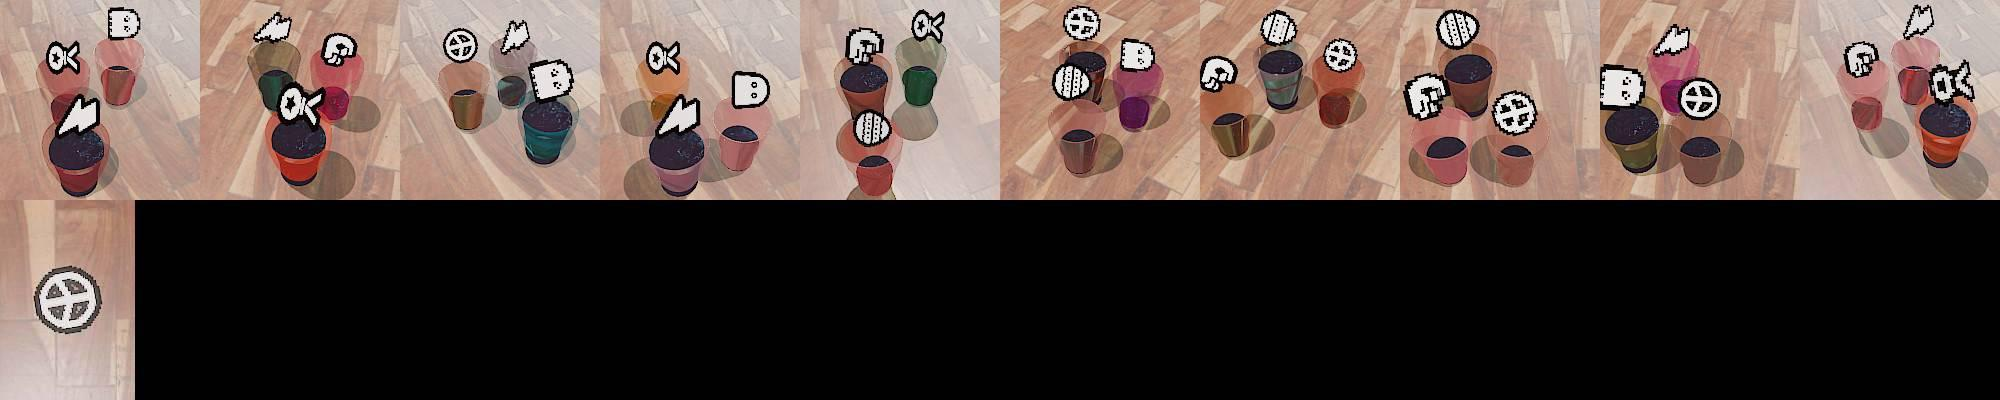icon: (33, 266, 102, 334), (1598, 61, 1645, 110), (1491, 89, 1540, 136), (1927, 60, 1974, 107), (1402, 74, 1449, 121), (656, 92, 702, 135), (277, 83, 323, 126), (528, 57, 574, 101), (56, 93, 101, 135), (1677, 78, 1721, 120), (1436, 9, 1480, 50), (851, 108, 892, 148), (1054, 61, 1093, 102), (844, 27, 883, 66), (731, 70, 769, 110), (1259, 10, 1297, 47), (1199, 55, 1236, 93), (320, 32, 358, 68), (645, 39, 682, 75), (441, 27, 478, 62), (1321, 37, 1358, 73), (1843, 41, 1879, 78), (1062, 5, 1099, 41), (254, 11, 293, 45), (1652, 23, 1691, 56), (46, 39, 82, 75), (496, 18, 531, 55), (1902, 3, 1935, 41), (911, 9, 945, 45), (106, 6, 142, 41), (1120, 38, 1156, 71)
